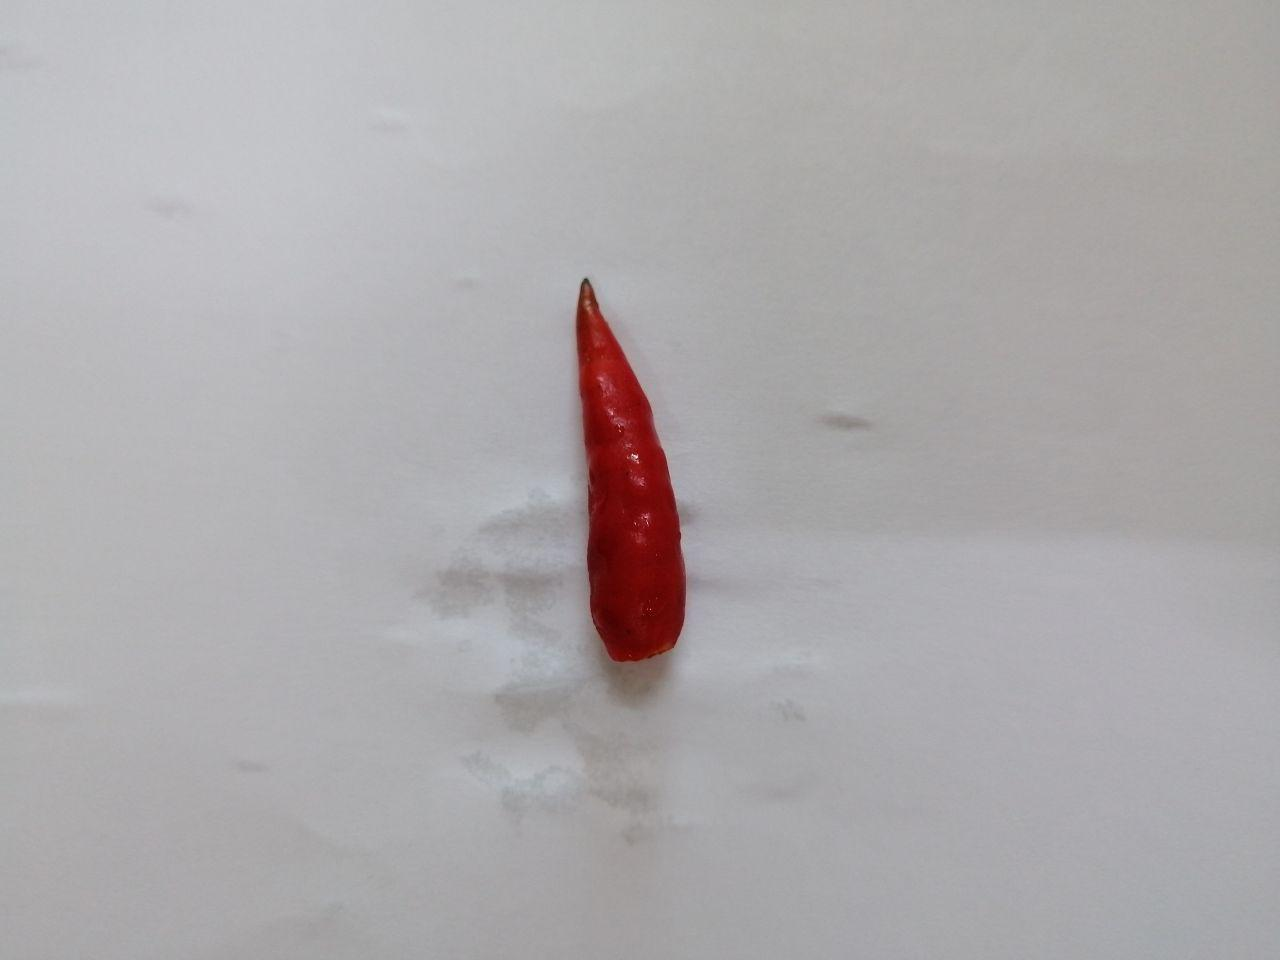lada merah: (534, 265, 718, 684)
